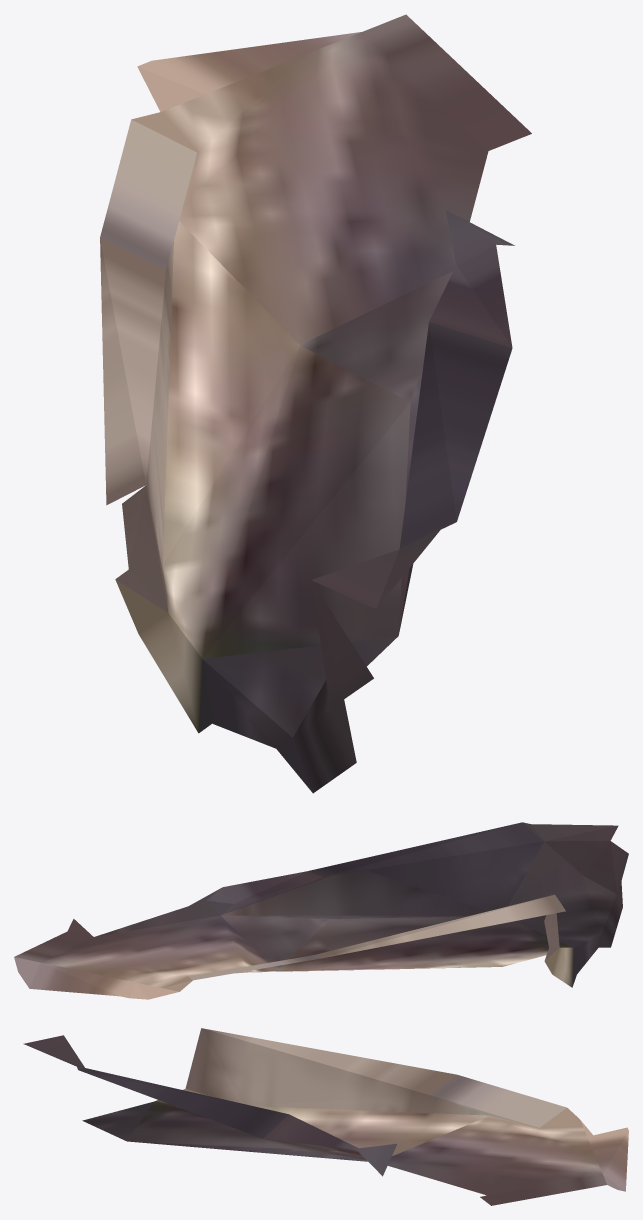
The picture shows the model from 3 angles, top to bottom: view 1: azimuth 30°, elevation 25°; view 2: azimuth 150°, elevation 25°; view 3: azimuth 270°, elevation 25°; orthographic projection. The views are drawn at different scales.
Visible parts, largest first — view 1: Mesh_0; view 2: Mesh_0; view 3: Mesh_0.
Part boxes in pixels (<box>): Mesh_0: <box>100,14,531,793</box>; Mesh_0: <box>14,822,628,999</box>; Mesh_0: <box>23,1028,628,1205</box>.
Bounding box in the file's own units: 6.8 × 2.12 × 10.25.
Materials: 1 (1 with a texture image).
